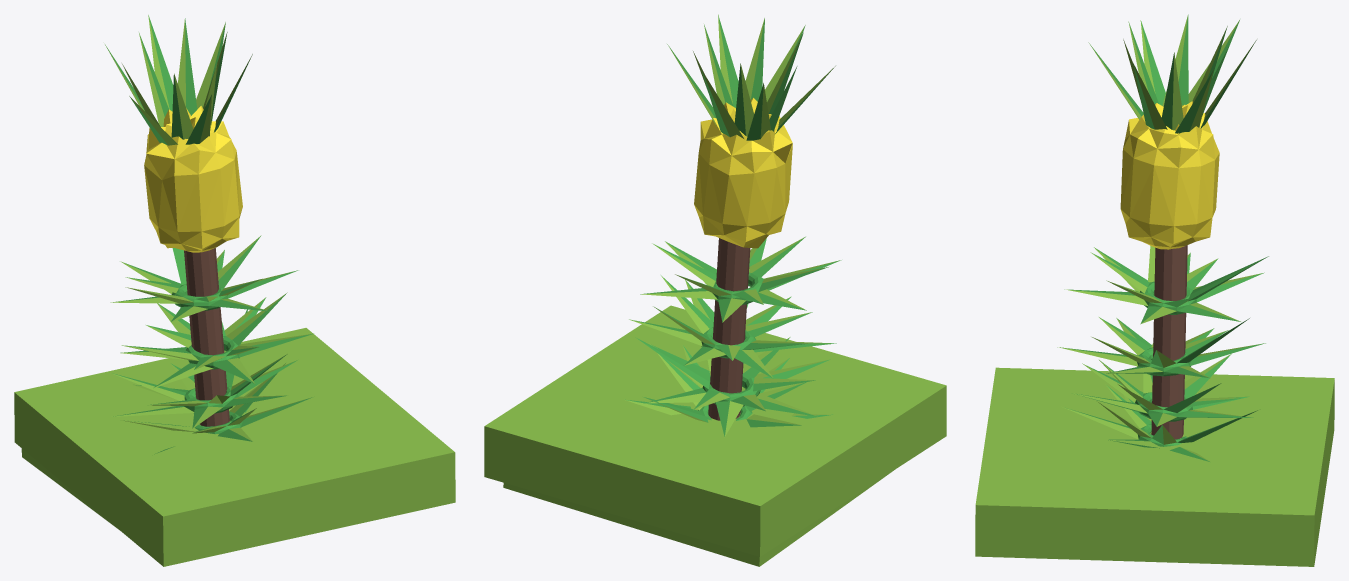
3 renders of one model, left to right at view 1: azimuth 30°, elevation 25°; view 2: azimuth 150°, elevation 25°; view 3: azimuth 270°, elevation 25°, orthographic.
Visible parts, largest first — view 1: mesh_1537693769, group_498971509; view 2: mesh_1537693769, group_498971509; view 3: mesh_1537693769, group_498971509.
Part boxes in pixels (bbox=[...]): mesh_1537693769: bbox=[14, 328, 455, 566]; group_498971509: bbox=[21, 15, 313, 528]; mesh_1537693769: bbox=[484, 305, 946, 556]; group_498971509: bbox=[503, 14, 893, 566]; mesh_1537693769: bbox=[975, 367, 1334, 566]; group_498971509: bbox=[1057, 14, 1268, 461].
Size of the model in its own units: 49.9 by 71.45 by 50.81.
